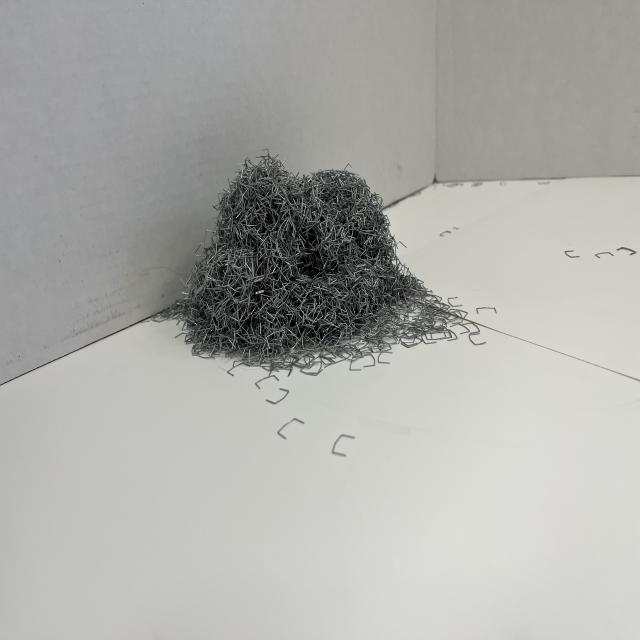staples: (154, 148, 484, 369)
